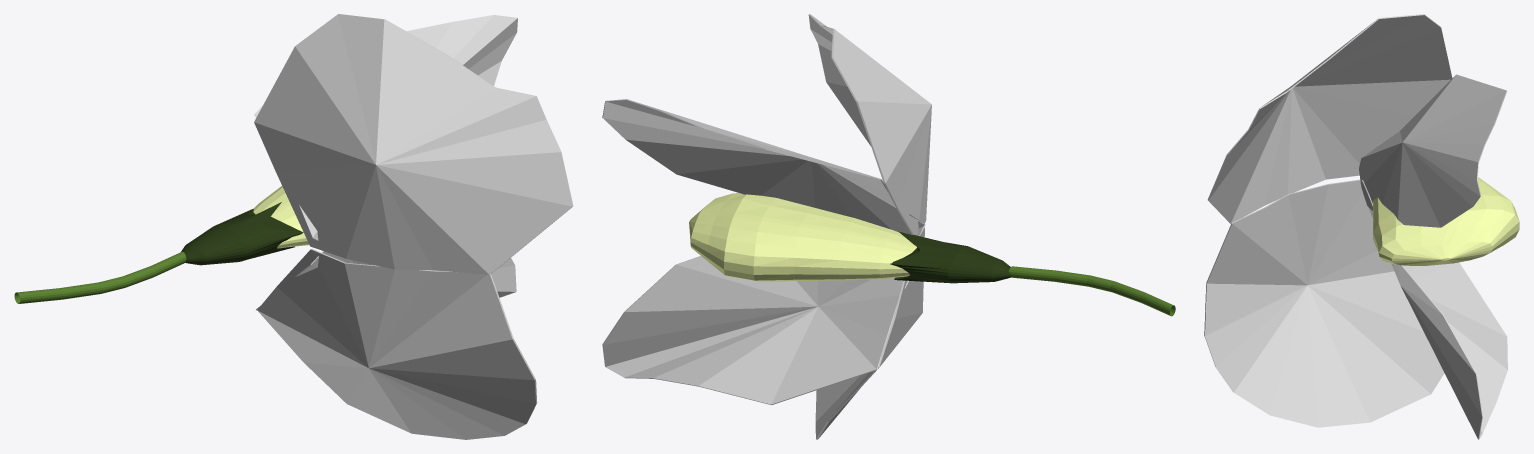
The model's file is BeanFlower_open_white.obj.
3 views of the same model, side by side, from view 1: azimuth 30°, elevation 25°; view 2: azimuth 150°, elevation 25°; view 3: azimuth 270°, elevation 25° (orthographic). The views are drawn at different scales.
Parts seen in each view (by area): view 1: petals, sepal; view 2: petals, sepal; view 3: petals.
Boxes of the visible parts, x1,y1,x2,y2 form: petals: (253,14,573,439); sepal: (14,202,303,303); petals: (602,14,931,439); sepal: (890,231,1175,316); petals: (1204,14,1519,439).
Size of the model in its own units: 0.8475 by 0.6189 by 0.4492.
